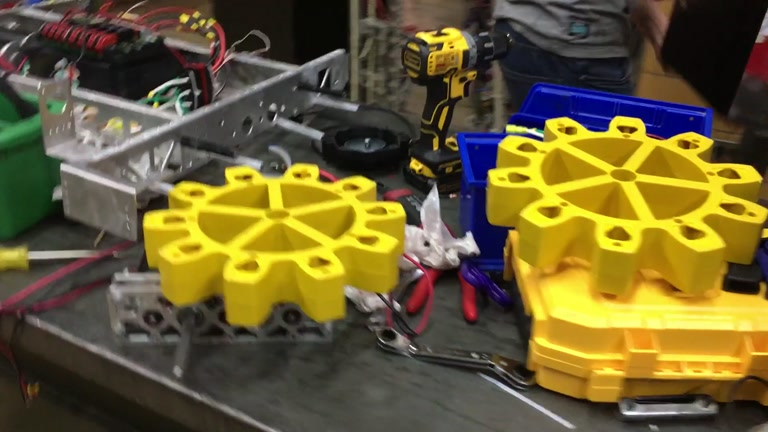gear: (485, 115, 767, 298), (143, 163, 405, 327)
